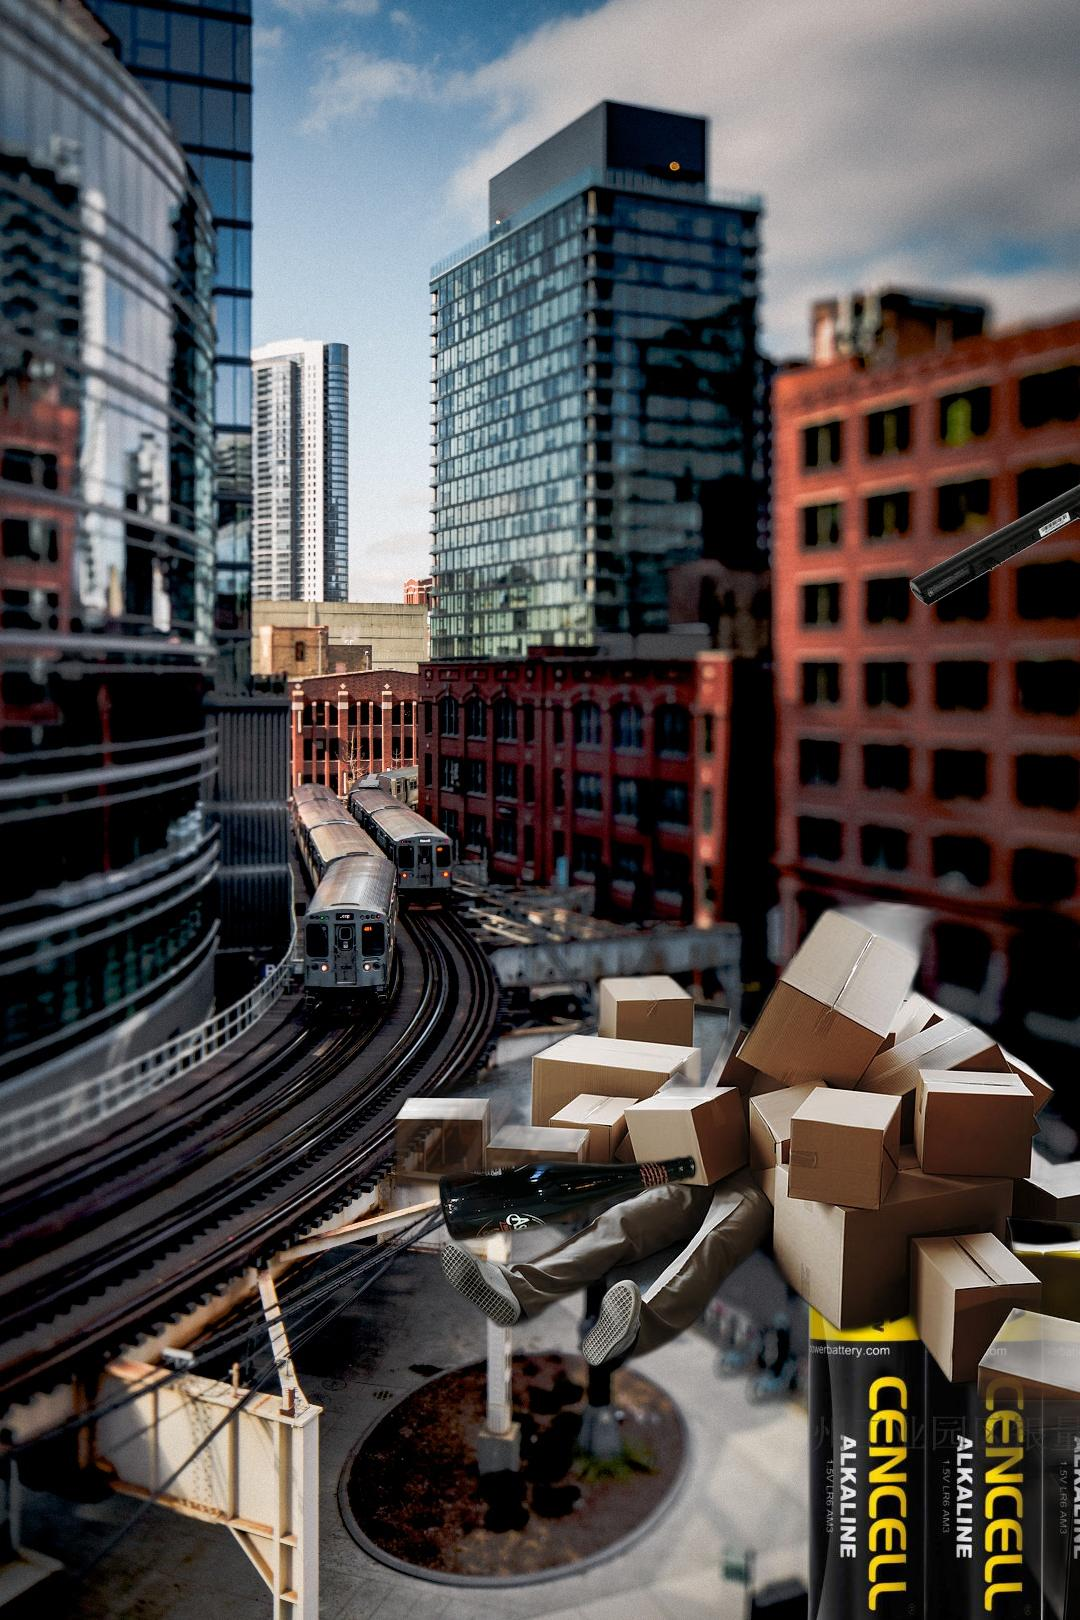battery: (803, 1231, 1080, 1620), (909, 462, 1080, 607)
glass: (434, 1149, 702, 1248)
trashbox-cardboard: (385, 877, 1080, 1620)
